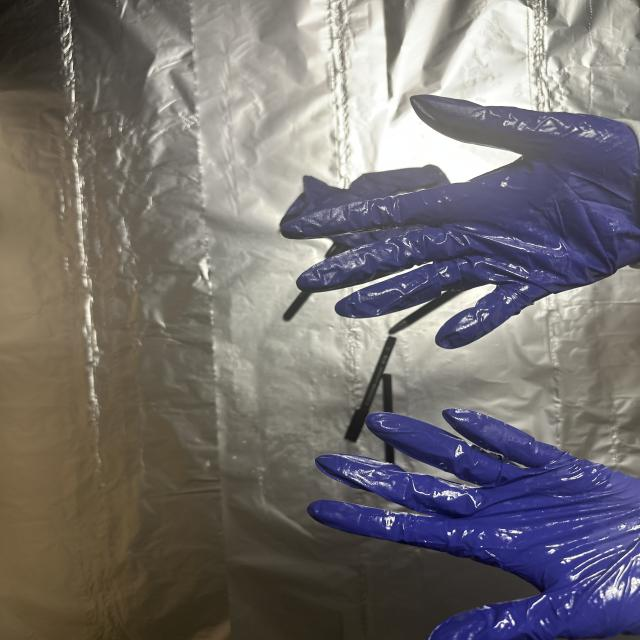gloves_contaminated: (281, 95, 640, 349), (308, 409, 640, 640)
